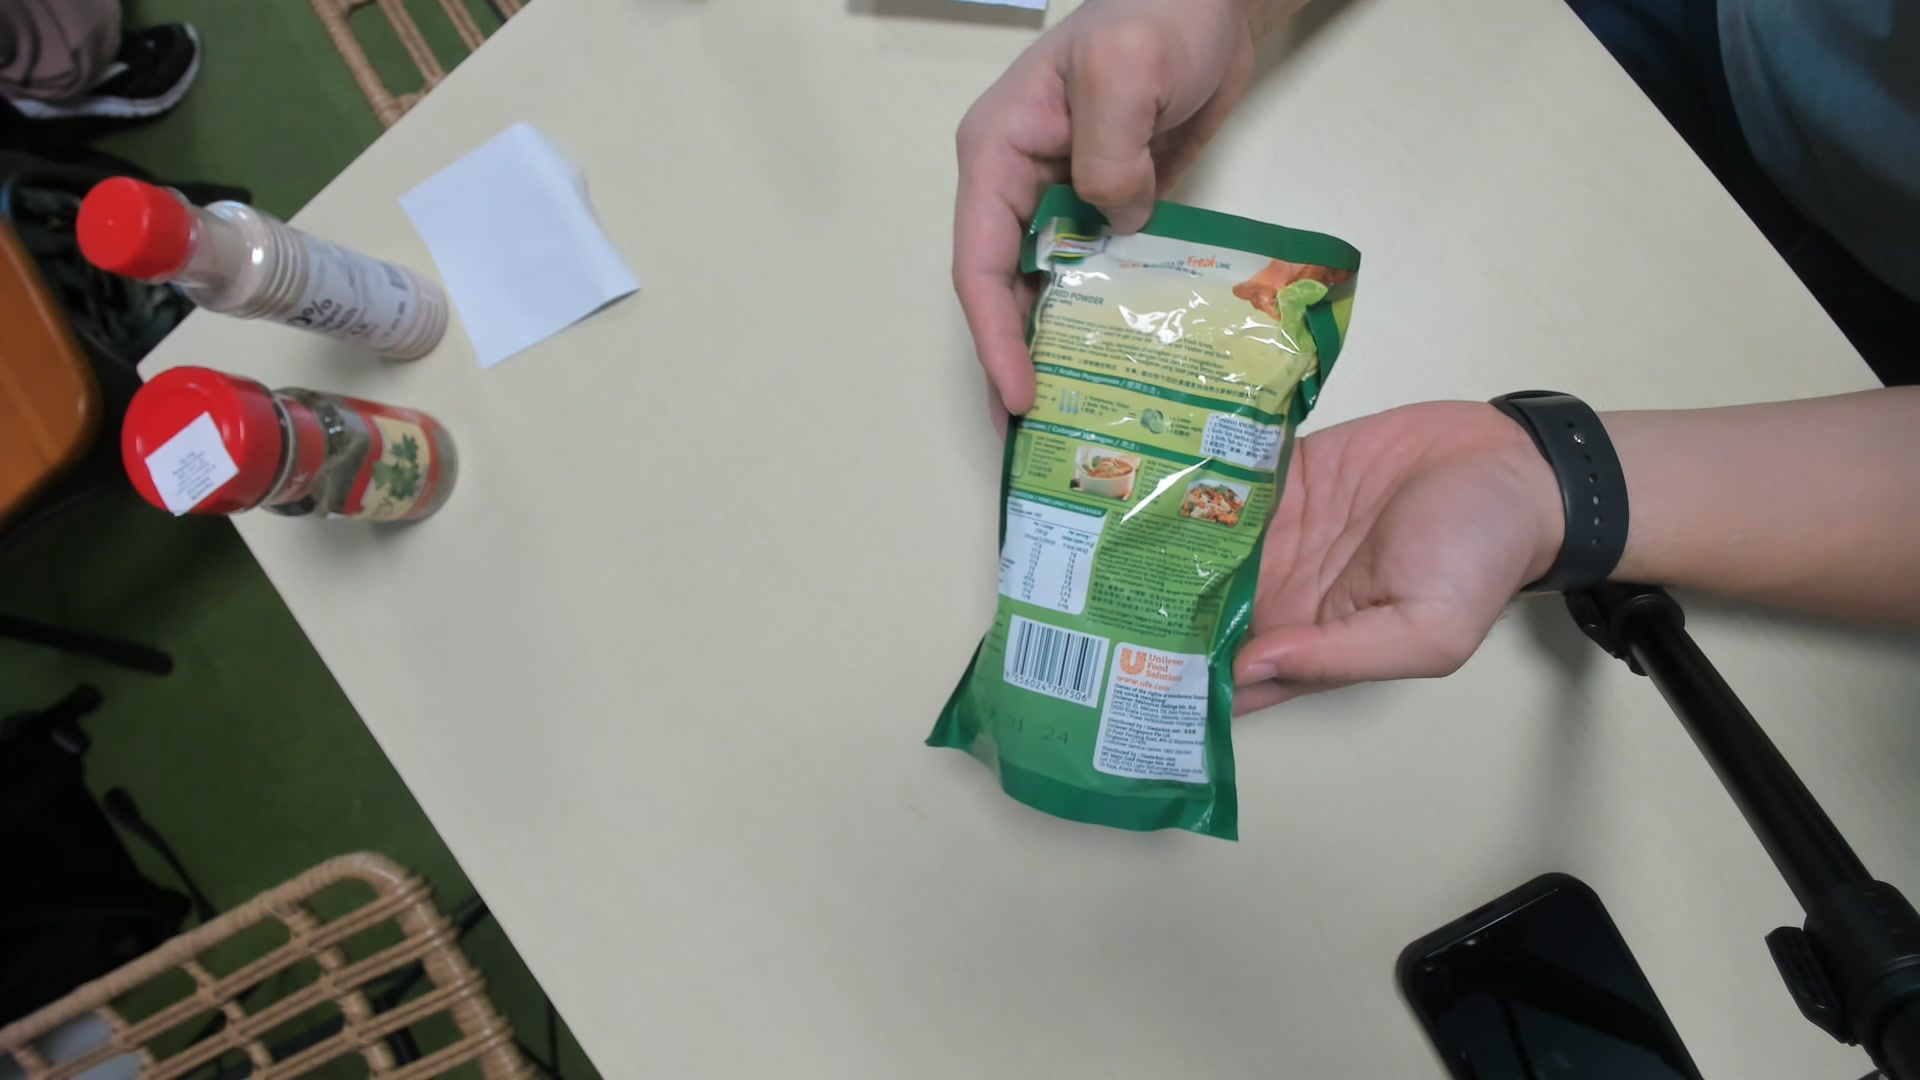HerbsSpicesPepper_400-499g_Halal_NonHealthy: (945, 190, 1360, 853)
